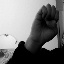e: (30, 3, 59, 44)
